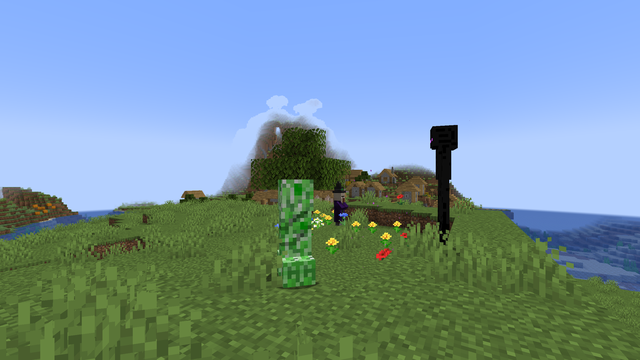creepers: (269, 174, 319, 286)
endermens: (427, 119, 458, 255)
slimes: (587, 282, 594, 288)
sorcieres: (332, 191, 345, 226)
